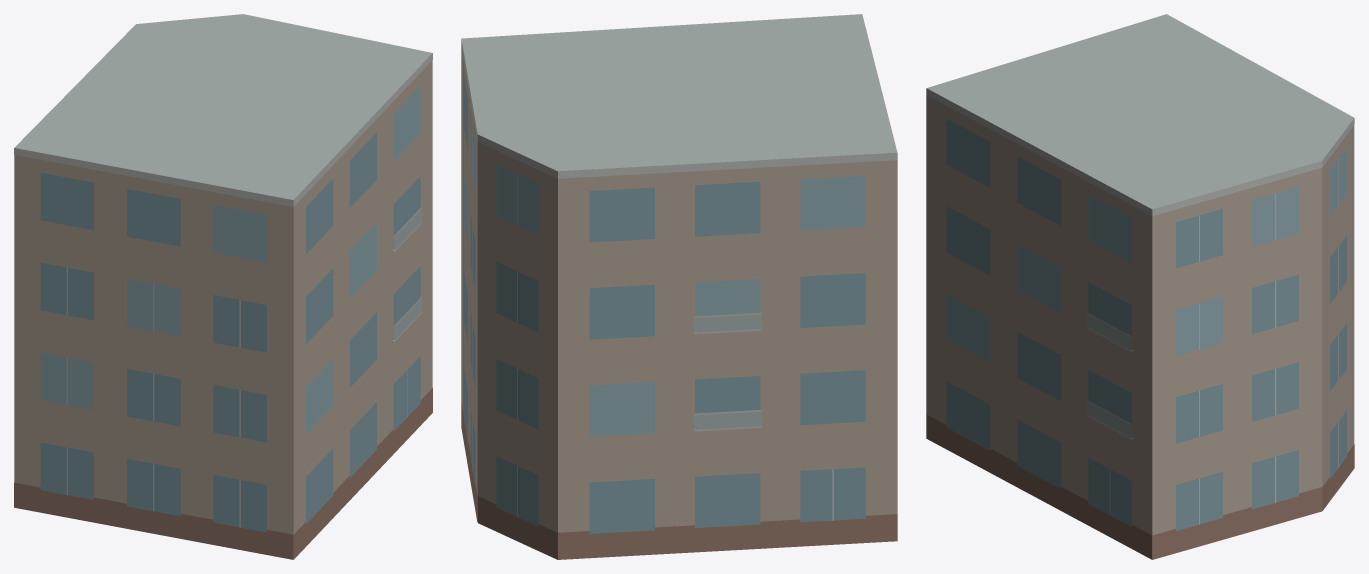
Rendered from survey-upis-32887391.glb.
3 renders of one model, left to right at view 1: azimuth 30°, elevation 25°; view 2: azimuth 150°, elevation 25°; view 3: azimuth 270°, elevation 25°, orthographic. The views are drawn at different scales.
Visible parts, largest first — view 1: survey-upis-32887391.tmp; view 2: survey-upis-32887391.tmp; view 3: survey-upis-32887391.tmp.
Part boxes in pixels (left/top/right/bottom): survey-upis-32887391.tmp: left=14, top=14, right=432, bottom=559; survey-upis-32887391.tmp: left=461, top=14, right=897, bottom=559; survey-upis-32887391.tmp: left=926, top=14, right=1354, bottom=559.
Size of the model in its own units: 15.2 by 12.7 by 14.07.
